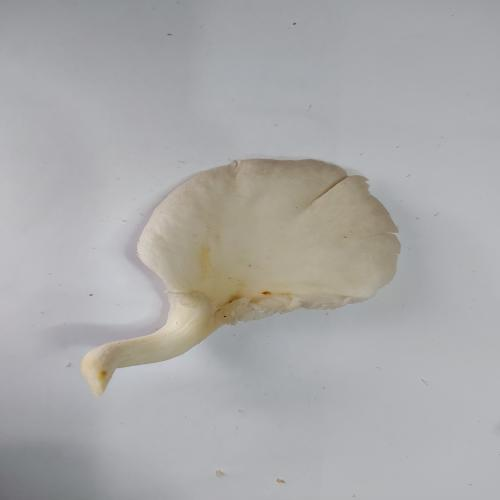Oyster Mushroom: (80, 156, 402, 397)
